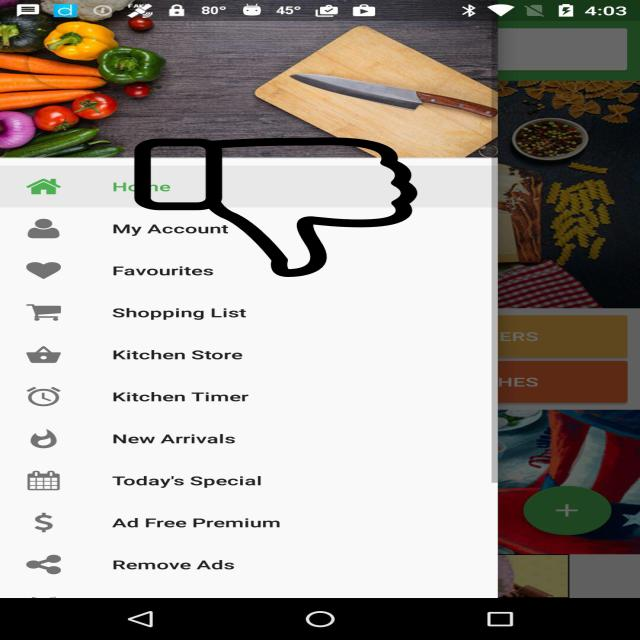obstruction: (130, 137, 422, 277)
